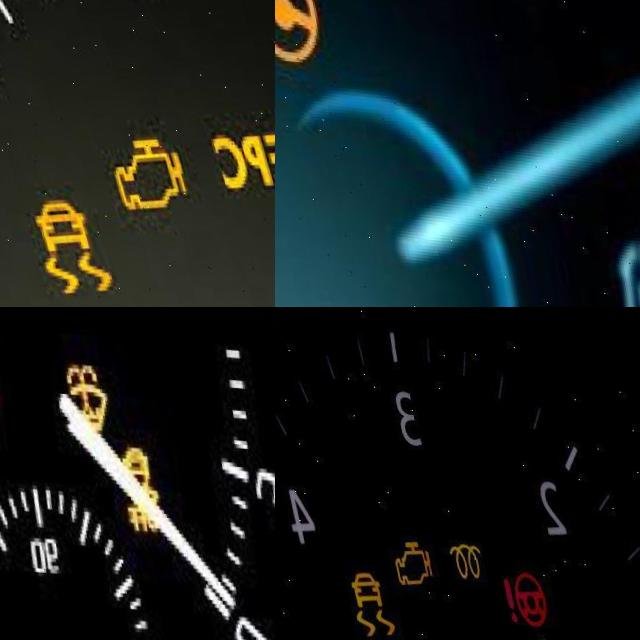Electronic Power Steering Warning: (487, 561, 548, 631), (275, 0, 319, 66)
